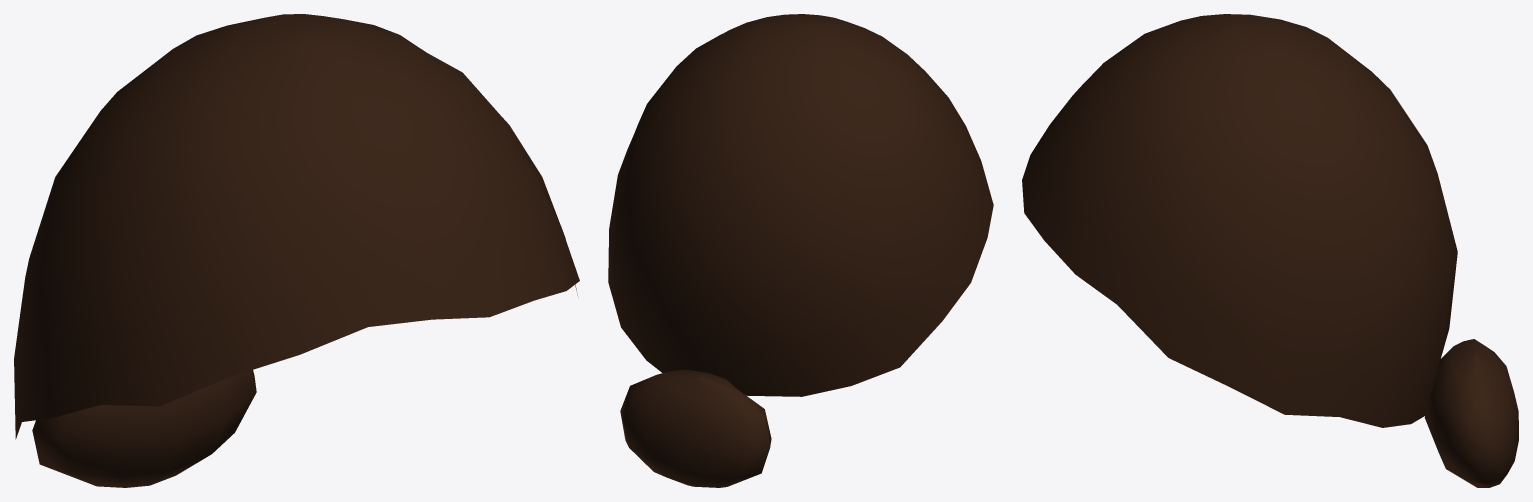
Rendered from bun-proxy-fitted.glb.
The picture shows the model from 3 angles, left to right: view 1: azimuth 30°, elevation 25°; view 2: azimuth 150°, elevation 25°; view 3: azimuth 270°, elevation 25°; orthographic projection. The views are drawn at different scales.
Visible parts, largest first — view 1: FIT bun-proxy / swept-bun - silhouette only, FIT bun-proxy / S02 silhouette bun; view 2: FIT bun-proxy / swept-bun - silhouette only, FIT bun-proxy / S02 silhouette bun; view 3: FIT bun-proxy / swept-bun - silhouette only, FIT bun-proxy / S02 silhouette bun.
Part boxes in pixels (x1,y1,x2,y2): FIT bun-proxy / swept-bun - silhouette only: (14, 14, 579, 439); FIT bun-proxy / S02 silhouette bun: (32, 370, 256, 487); FIT bun-proxy / swept-bun - silhouette only: (608, 14, 993, 396); FIT bun-proxy / S02 silhouette bun: (620, 369, 771, 487); FIT bun-proxy / swept-bun - silhouette only: (1022, 14, 1457, 427); FIT bun-proxy / S02 silhouette bun: (1424, 339, 1518, 487).
Bounding box in the file's own units: 0.1672 × 0.1793 × 0.1806.
